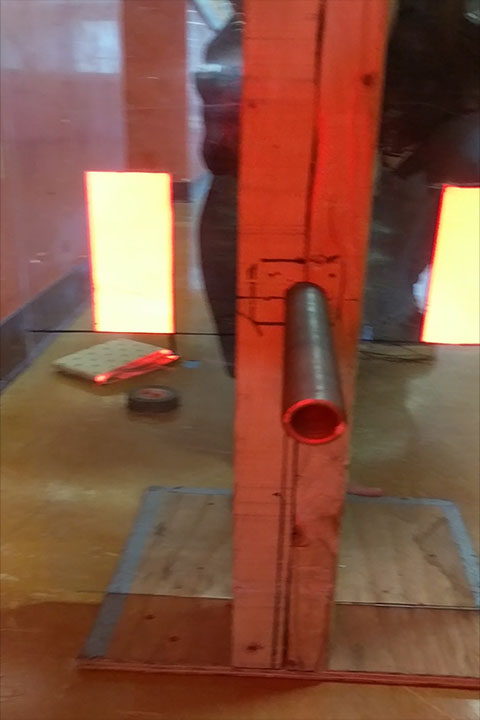gear: (84, 170, 174, 334), (419, 184, 480, 343)
